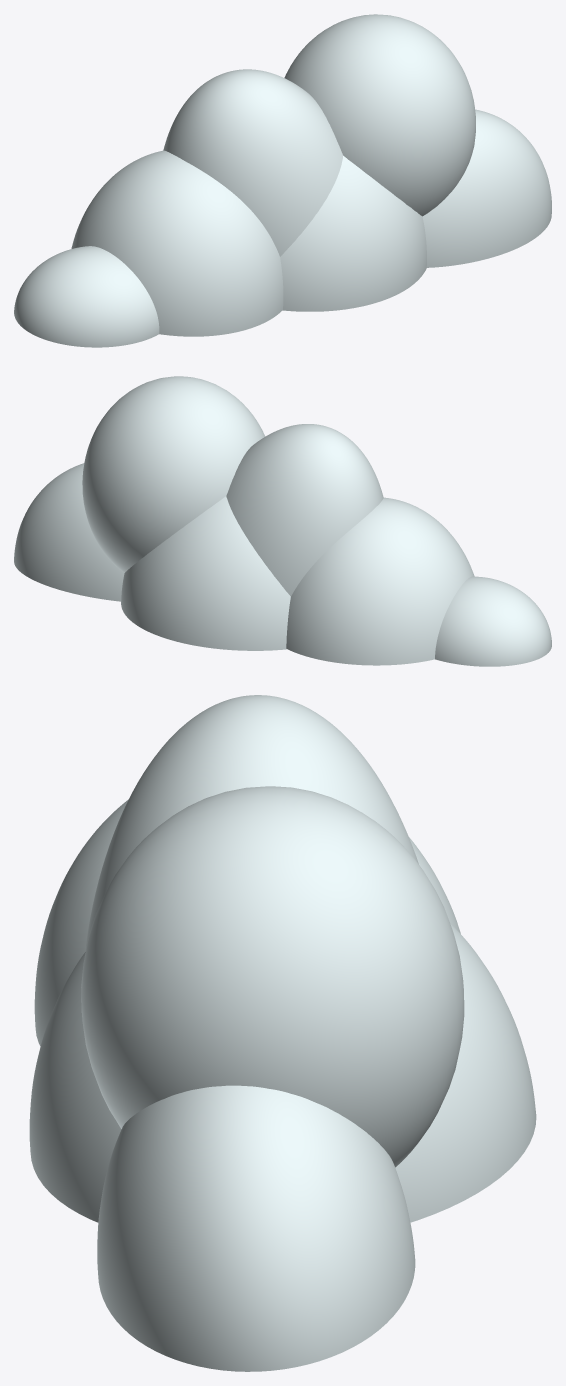
File: Cloudy.glb
3 renders of one model, top to bottom at view 1: azimuth 30°, elevation 25°; view 2: azimuth 150°, elevation 25°; view 3: azimuth 270°, elevation 25°, orthographic. The views are drawn at different scales.
Visible parts, largest first — view 1: mesh_id27, mesh_id29, mesh_id51, mesh_id49, mesh_id40, mesh_id53; view 2: mesh_id29, mesh_id27, mesh_id49, mesh_id51, mesh_id40, mesh_id53; view 3: mesh_id29, mesh_id40, mesh_id49, mesh_id51, mesh_id27.
Part boxes in pixels (<box>): mesh_id27: <box>71,150,283,336</box>; mesh_id29: <box>284,14,475,216</box>; mesh_id51: <box>163,69,343,256</box>; mesh_id49: <box>280,156,426,311</box>; mesh_id40: <box>422,109,551,267</box>; mesh_id53: <box>14,246,159,347</box>; mesh_id29: <box>82,376,265,572</box>; mesh_id27: <box>286,497,474,665</box>; mesh_id49: <box>121,496,290,650</box>; mesh_id51: <box>226,424,383,596</box>; mesh_id40: <box>14,463,124,601</box>; mesh_id53: <box>435,576,551,666</box>; mesh_id29: <box>81,786,464,1167</box>; mesh_id40: <box>97,1085,415,1371</box>; mesh_id49: <box>29,923,536,1222</box>; mesh_id51: <box>85,695,418,951</box>; mesh_id27: <box>34,799,460,1046</box>.
Bounding box in the file's own units: 0.4053 × 0.1596 × 0.1743.
6 materials, 6 textured.
